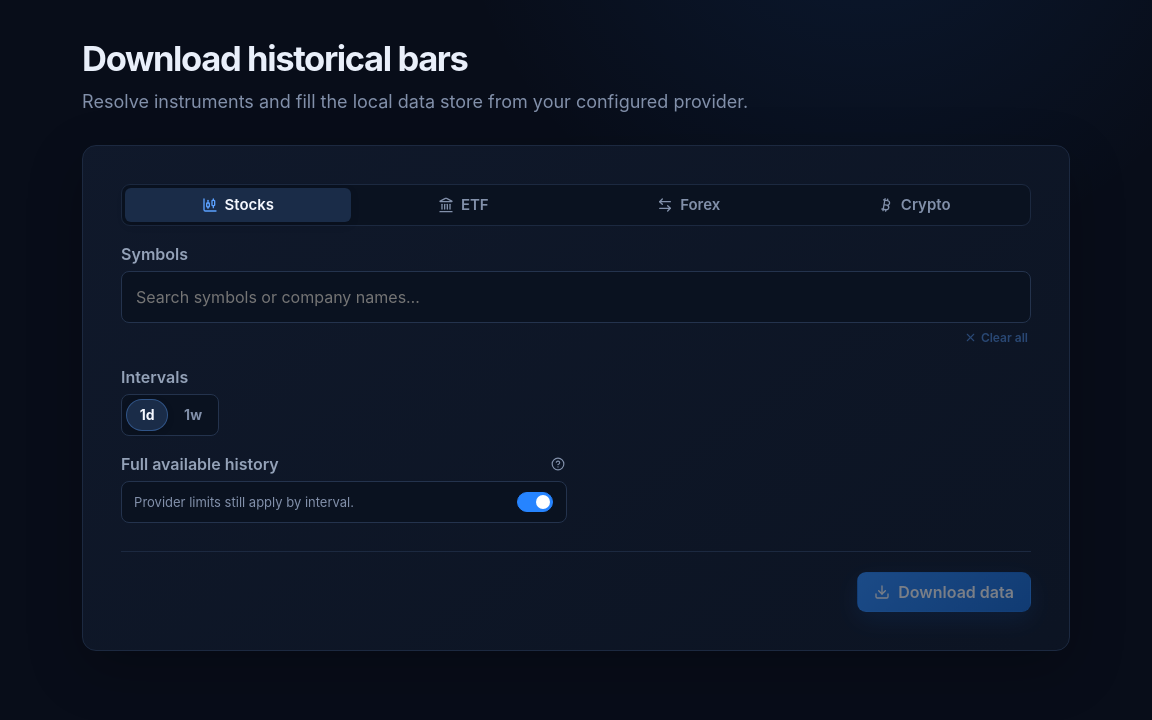
Test case: download page › loads a logo for a selected custom symbol outside the current catalog
In the field with id "download-symbols": (576, 297) [132, 283, 1020, 311], type "AVIANRO"
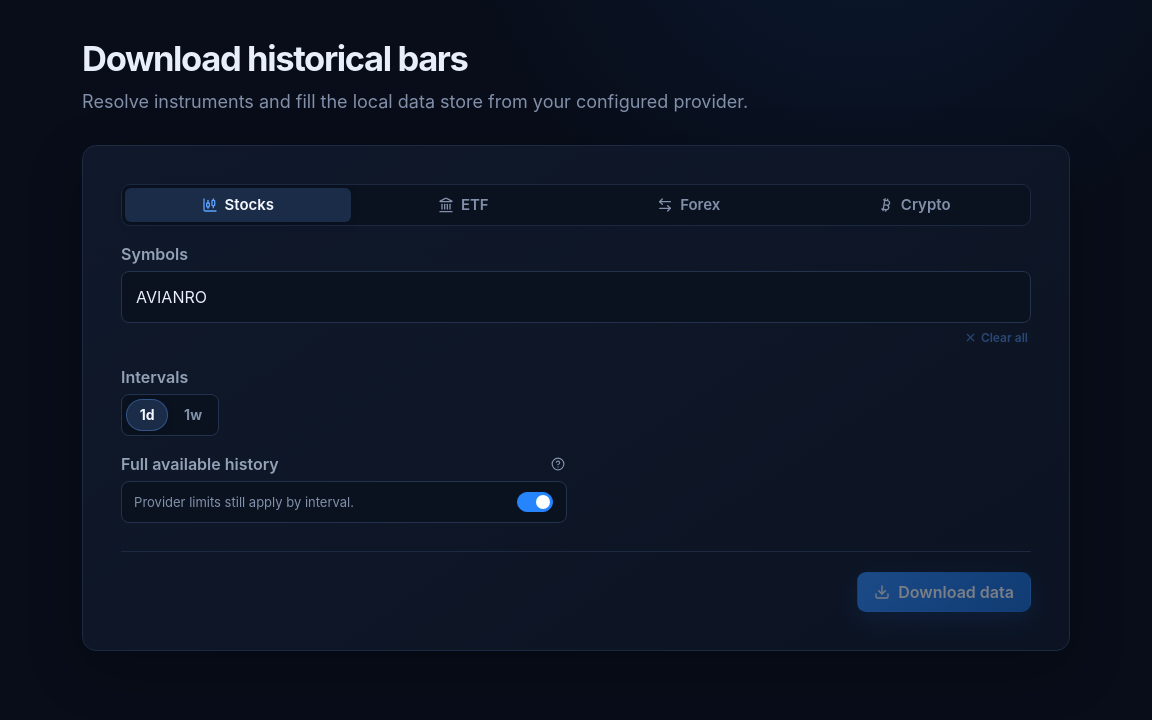
Press Enter in the field with id "download-symbols", box [132, 283, 1020, 311]
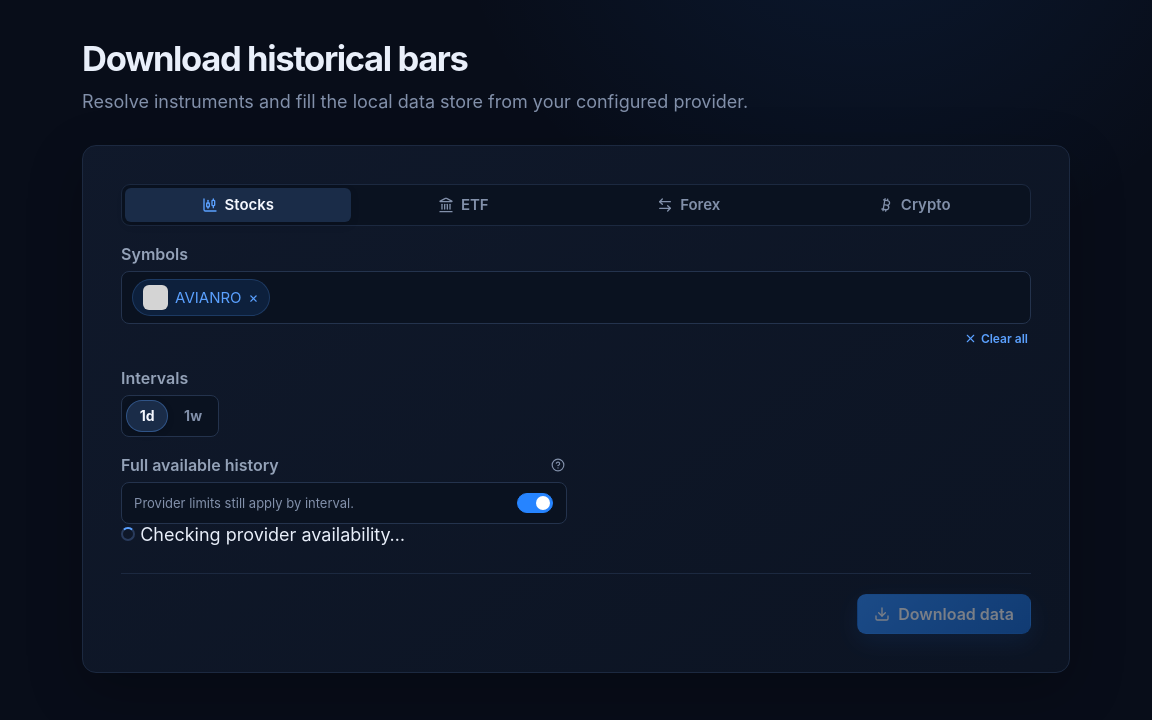
Expected: the element with class "tag" shows "AVIANRO", [175, 288, 242, 307]
